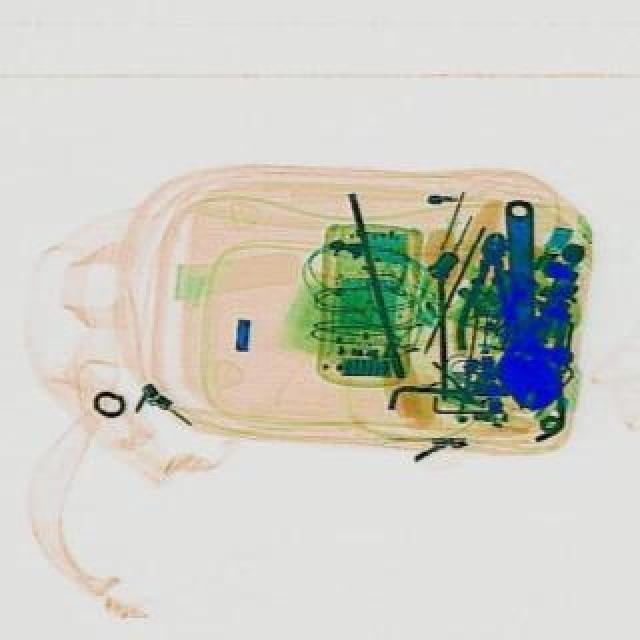scissors: (484, 196, 562, 412)
wrench: (452, 228, 524, 354)
